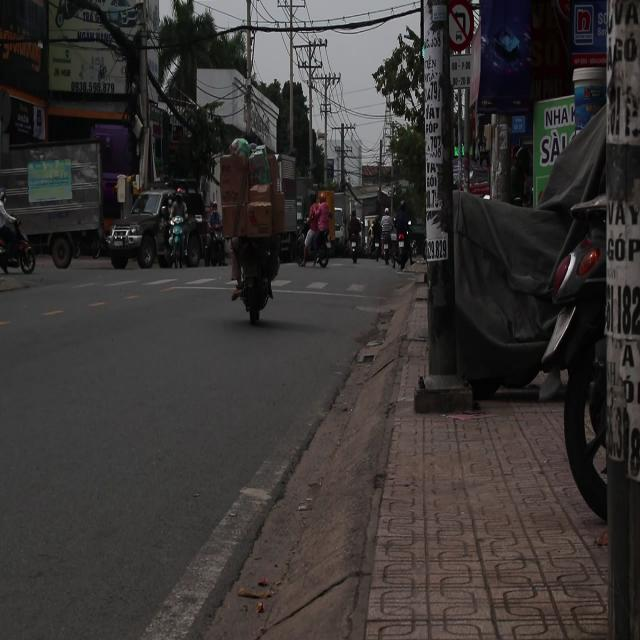motorbike: (225, 205, 289, 327), (0, 193, 36, 275), (296, 214, 338, 284), (205, 200, 232, 278), (392, 214, 416, 278), (341, 218, 364, 269)
truck: (2, 141, 114, 285), (107, 190, 200, 268)
